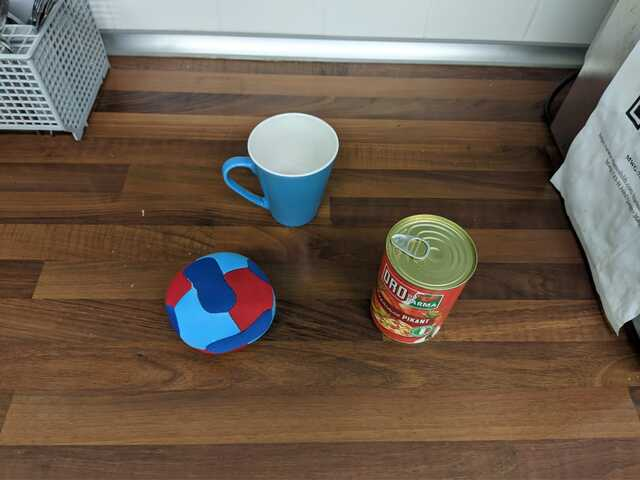005_tomato_soup_can: (368, 209, 480, 353)
025_mug: (218, 109, 342, 229)
057_racquetball: (161, 248, 282, 359)
